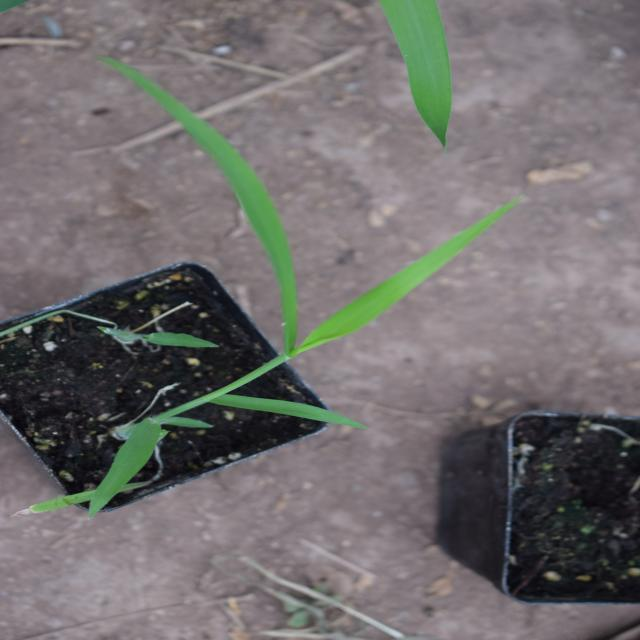crabgrass: (84, 171, 507, 558)
